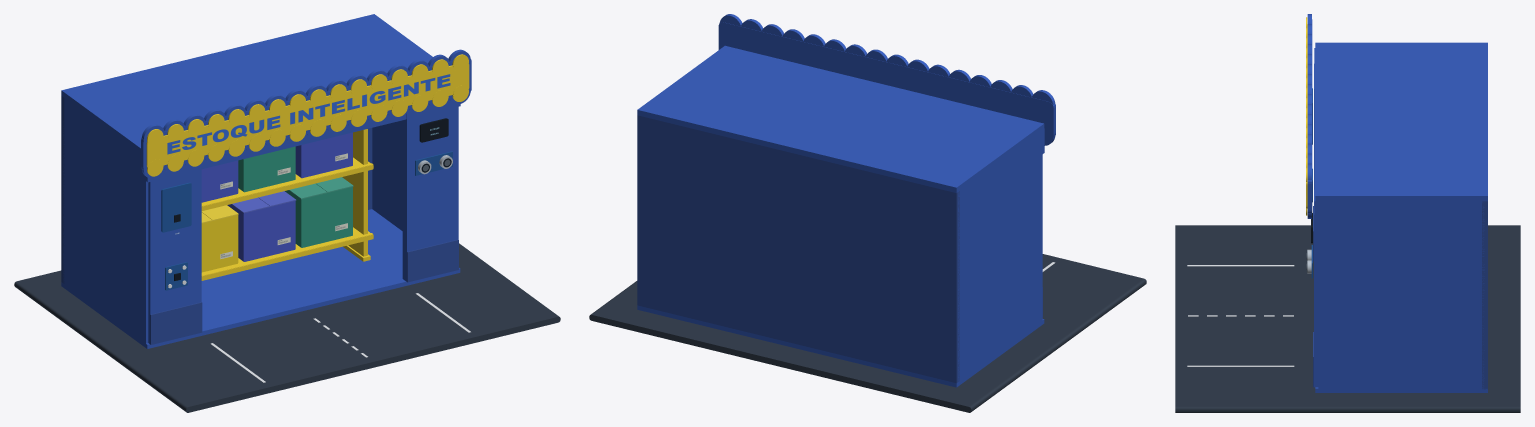
Rendered from estoque-inteligente.glb.
The picture shows the model from 3 angles, left to right: view 1: azimuth 30°, elevation 25°; view 2: azimuth 150°, elevation 25°; view 3: azimuth 270°, elevation 25°; orthographic projection. The views are drawn at different scales.
Visible parts, largest first — view 1: Base_da_maquete, Teto_removivel, Parede_esquerda, Piso_azul, Pilar_direito, Pilar_esquerdo, Placa_amarela, Parede_direita, Corpo_CX-05, Corpo_CX-06, Prateleira (×2), Texto_do_letreiro (+14 smaller); view 2: Parede_traseira, Teto_removivel, Base_da_maquete, Parede_esquerda, Fundo_do_letreiro, Piso_azul; view 3: Base_da_maquete, Parede_direita, Teto_removivel, Parede_traseira, Pilar_direito, Piso_azul, Travessa_superior, Fundo_do_letreiro.
Boxes of the visible parts, x1,y1,x2,y2 form: Base_da_maquete: [14, 243, 560, 412]; Teto_removivel: [61, 14, 432, 153]; Parede_esquerda: [63, 98, 148, 343]; Piso_azul: [61, 209, 460, 348]; Pilar_direito: [402, 100, 458, 281]; Pilar_esquerdo: [148, 165, 201, 343]; Placa_amarela: [146, 64, 469, 167]; Parede_direita: [372, 107, 458, 239]; Corpo_CX-05: [227, 201, 295, 261]; Corpo_CX-06: [285, 187, 352, 247]; Prateleira (×2): [201, 157, 373, 280]; Texto_do_letreiro: [167, 74, 450, 154]; Parede_traseira: [637, 115, 959, 383]; Teto_removivel: [637, 45, 1044, 192]; Base_da_maquete: [589, 254, 1146, 412]; Parede_esquerda: [958, 130, 1042, 381]; Fundo_do_letreiro: [718, 22, 1055, 139]; Piso_azul: [637, 305, 1044, 387]; Base_da_maquete: [1175, 225, 1520, 412]; Parede_direita: [1318, 201, 1484, 389]; Teto_removivel: [1315, 42, 1487, 201]; Parede_traseira: [1482, 201, 1487, 389]; Pilar_direito: [1314, 190, 1318, 387]; Piso_azul: [1315, 387, 1487, 392]; Travessa_superior: [1314, 48, 1321, 224]; Fundo_do_letreiro: [1307, 19, 1312, 213].
Bounding box in the file's own units: 0.73 × 0.43 × 0.58.
44 materials, 16 textured.
